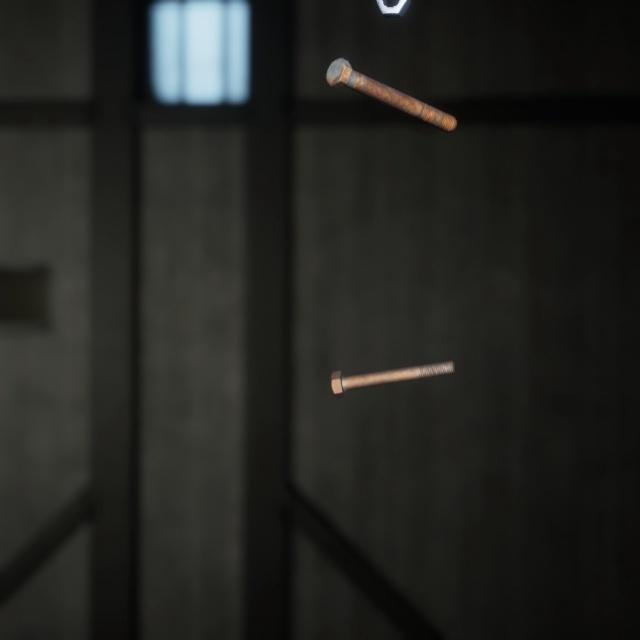bolt: (321, 42, 461, 125), (326, 337, 459, 385)
